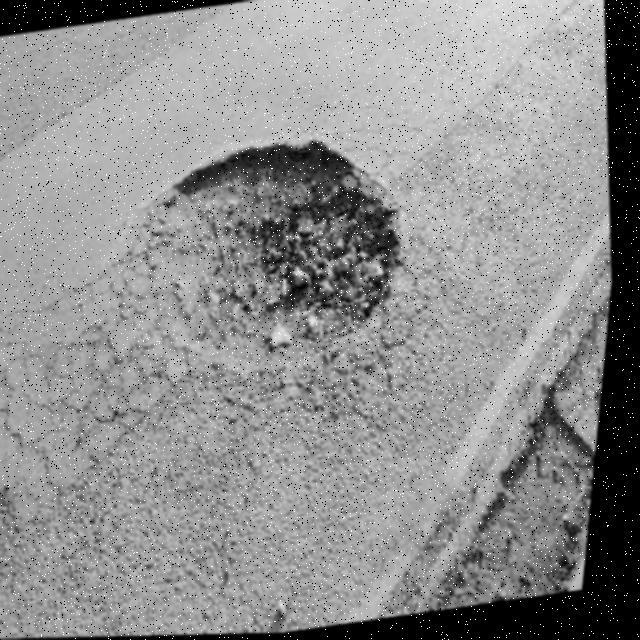pothole: (125, 120, 435, 404)
